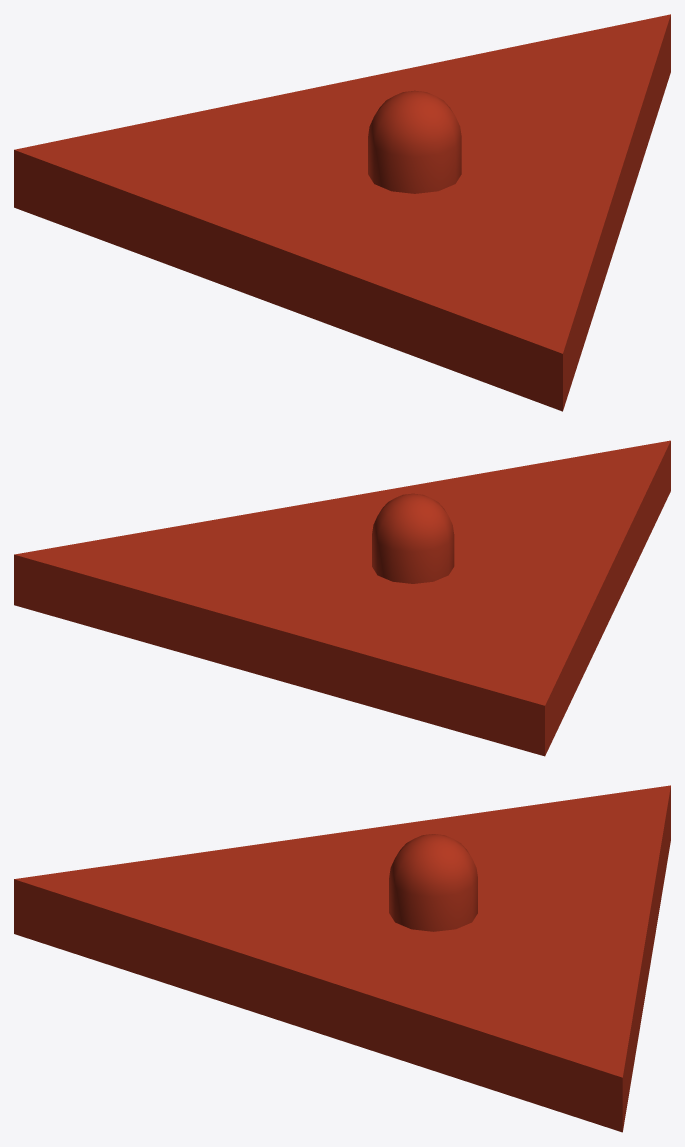
The model's file is RulerPad.FBX.
3 renders of one model, top to bottom at view 1: azimuth 30°, elevation 25°; view 2: azimuth 150°, elevation 25°; view 3: azimuth 270°, elevation 25°, orthographic. The views are drawn at different scales.
Parts seen in each view (by area): view 1: Gengon01, Capsule01; view 2: Gengon01, Capsule01; view 3: Gengon01, Capsule01.
Part boxes in pixels (left/top/right/bottom): Gengon01: left=14, top=14, right=670, bottom=411; Capsule01: left=368, top=90, right=461, bottom=193; Gengon01: left=14, top=440, right=670, bottom=756; Capsule01: left=372, top=493, right=454, bottom=583; Gengon01: left=14, top=785, right=670, bottom=1132; Capsule01: left=389, top=834, right=477, bottom=931.
Bounding box in the file's own units: 22.85 × 21.71 × 4.74.
